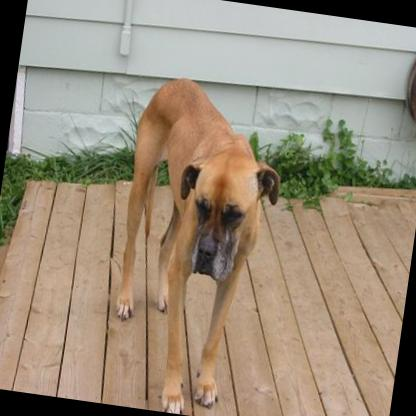bull_mastiff: (96, 70, 292, 416)
